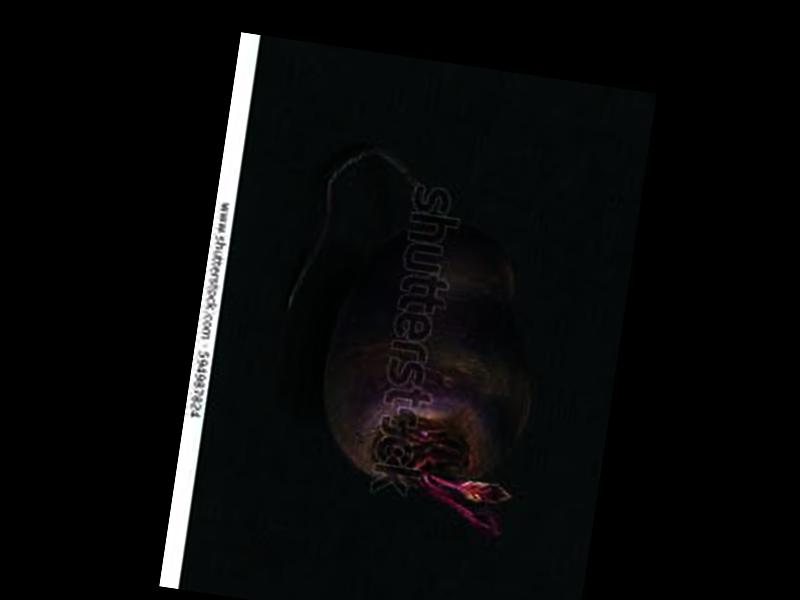Beet: (257, 139, 565, 546)
